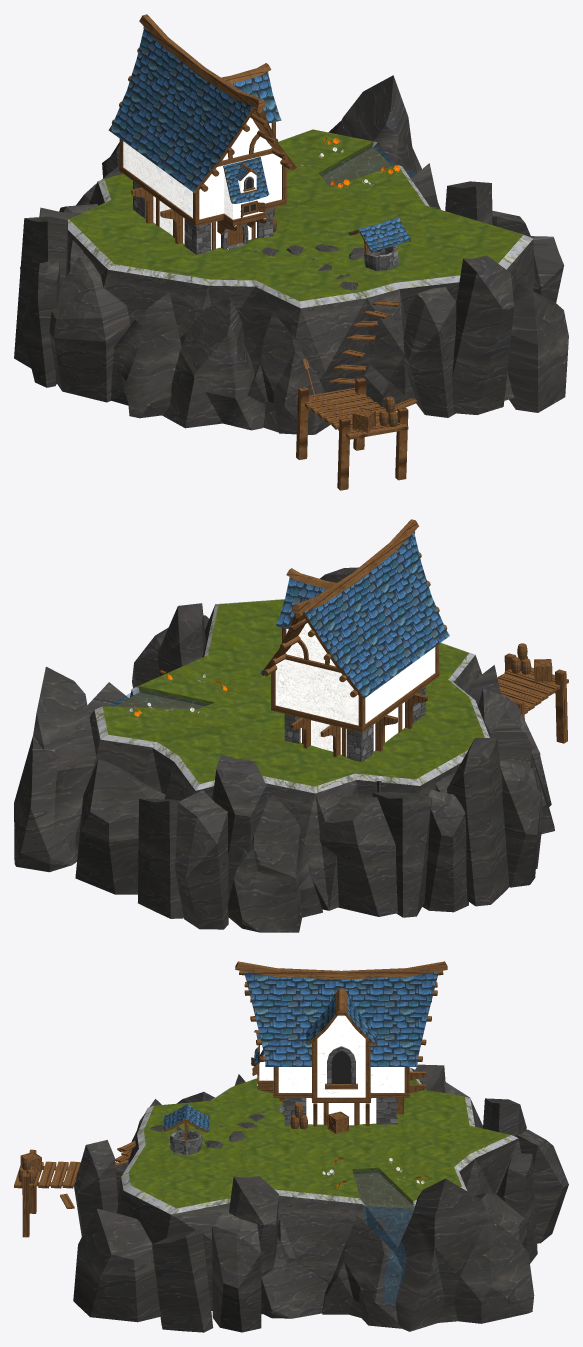
The model's file is island.glb.
3 views of the same model, one above another, from view 1: azimuth 30°, elevation 25°; view 2: azimuth 150°, elevation 25°; view 3: azimuth 270°, elevation 25° (orthographic). The views are drawn at different scales.
Visible parts, largest first — view 1: polySurface31_Stone_0, polySurface32_Grass_0, well_Roof_0, well_Wood_0, pCylinder2_Wood_0, polySurface10_plaster_0, polySurface32_moss_0, well_cobble_0, polySurface1_WaterL_0, polySurface32_Dirt_0; view 2: polySurface31_Stone_0, polySurface32_Grass_0, well_Roof_0, polySurface10_plaster_0, well_Wood_0, polySurface32_moss_0, pCylinder2_Wood_0, well_cobble_0, polySurface1_WaterL_0, polySurface32_Dirt_0; view 3: polySurface31_Stone_0, polySurface32_Grass_0, well_Roof_0, well_Wood_0, polySurface10_plaster_0, polySurface1_WaterL_0, pCylinder2_Wood_0, polySurface32_moss_0, well_cobble_0, polySurface32_Dirt_0, polySurface10_lambert11_0.
Part boxes in pixels (left/top/right/bottom): polySurface31_Stone_0: left=14, top=75, right=568, bottom=434; polySurface32_Grass_0: left=69, top=129, right=523, bottom=301; well_Roof_0: left=108, top=27, right=411, bottom=251; well_Wood_0: left=112, top=14, right=410, bottom=253; pCylinder2_Wood_0: left=273, top=207, right=417, bottom=490; polySurface10_plaster_0: left=123, top=117, right=281, bottom=249; polySurface32_moss_0: left=67, top=141, right=532, bottom=308; well_cobble_0: left=133, top=176, right=398, bottom=270; polySurface1_WaterL_0: left=320, top=144, right=415, bottom=186; polySurface32_Dirt_0: left=320, top=144, right=392, bottom=187; polySurface31_Stone_0: left=14, top=567, right=554, bottom=932; polySurface32_Grass_0: left=102, top=599, right=484, bottom=786; well_Roof_0: left=260, top=532, right=449, bottom=698; polySurface10_plaster_0: left=275, top=623, right=435, bottom=756; well_Wood_0: left=263, top=519, right=447, bottom=756; polySurface32_moss_0: left=94, top=599, right=489, bottom=793; pCylinder2_Wood_0: left=497, top=643, right=568, bottom=743; well_cobble_0: left=284, top=686, right=425, bottom=762; polySurface1_WaterL_0: left=108, top=689, right=209, bottom=708; polySurface32_Dirt_0: left=114, top=689, right=209, bottom=709; polySurface31_Stone_0: left=73, top=1064, right=568, bottom=1332; polySurface32_Grass_0: left=128, top=1071, right=510, bottom=1208; well_Roof_0: left=163, top=971, right=438, bottom=1130; well_Wood_0: left=163, top=961, right=447, bottom=1140; polySurface10_plaster_0: left=257, top=1015, right=404, bottom=1125; polySurface1_WaterL_0: left=353, top=1170, right=414, bottom=1305; pCylinder2_Wood_0: left=14, top=1103, right=348, bottom=1237; polySurface32_moss_0: left=121, top=1068, right=518, bottom=1214; well_cobble_0: left=170, top=1045, right=397, bottom=1154; polySurface32_Dirt_0: left=353, top=1170, right=414, bottom=1208; polySurface10_lambert11_0: left=331, top=1050, right=351, bottom=1083.
Size of the model in its own units: 20.13 by 12.37 by 23.55.
Materials: 16 (9 with a texture image).
